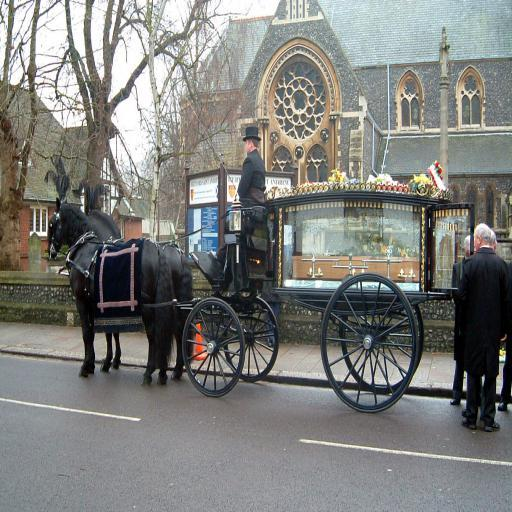Horse: (46, 195, 176, 382), (85, 204, 196, 382)
